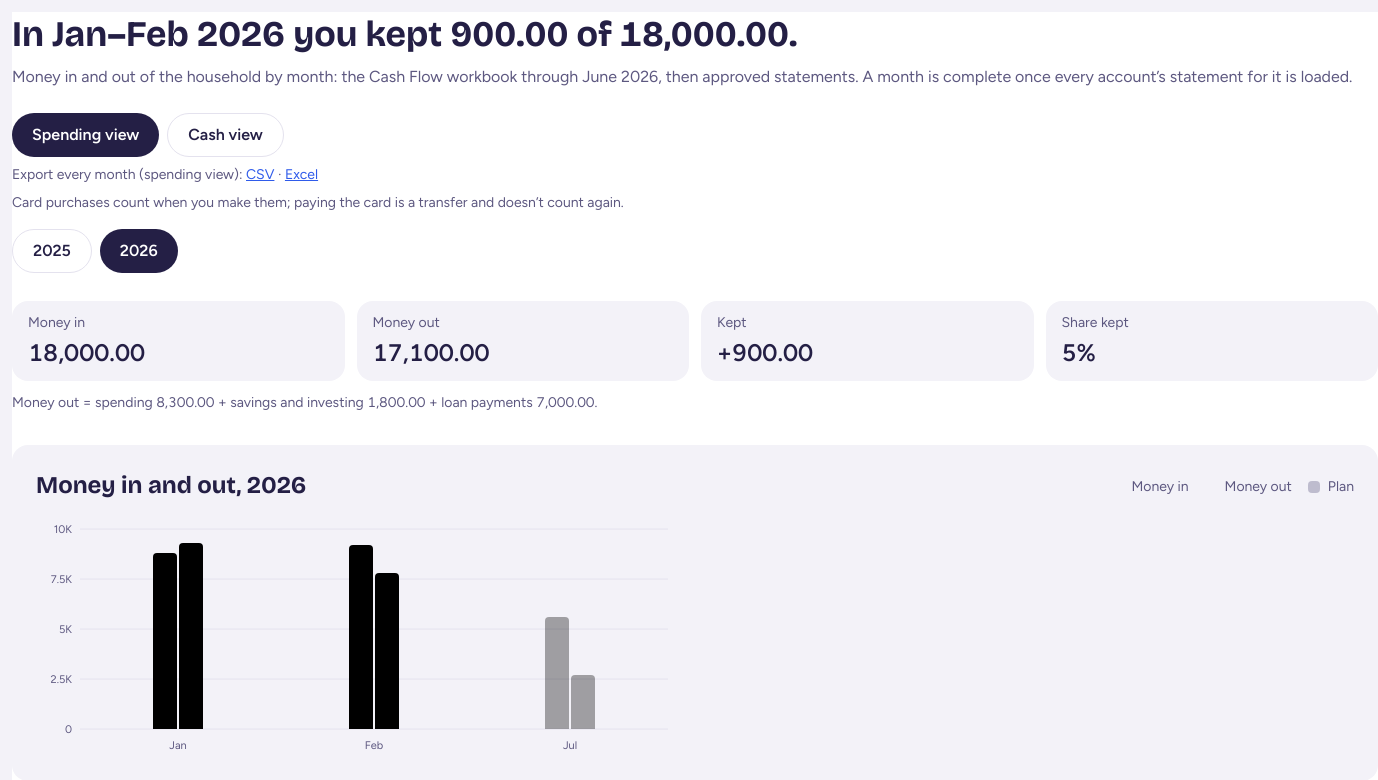
Test case: Overview › toggles between the spending view and the cash view
expect the heading "In Jan–Feb 2026 you kept 900.00 of 18,000.00." is shown: met, box [12,13,797,56]
expect the text "card payments" is not shown: met
Click the button "Cash view".
click(226, 135)  # box [167,113,284,157]
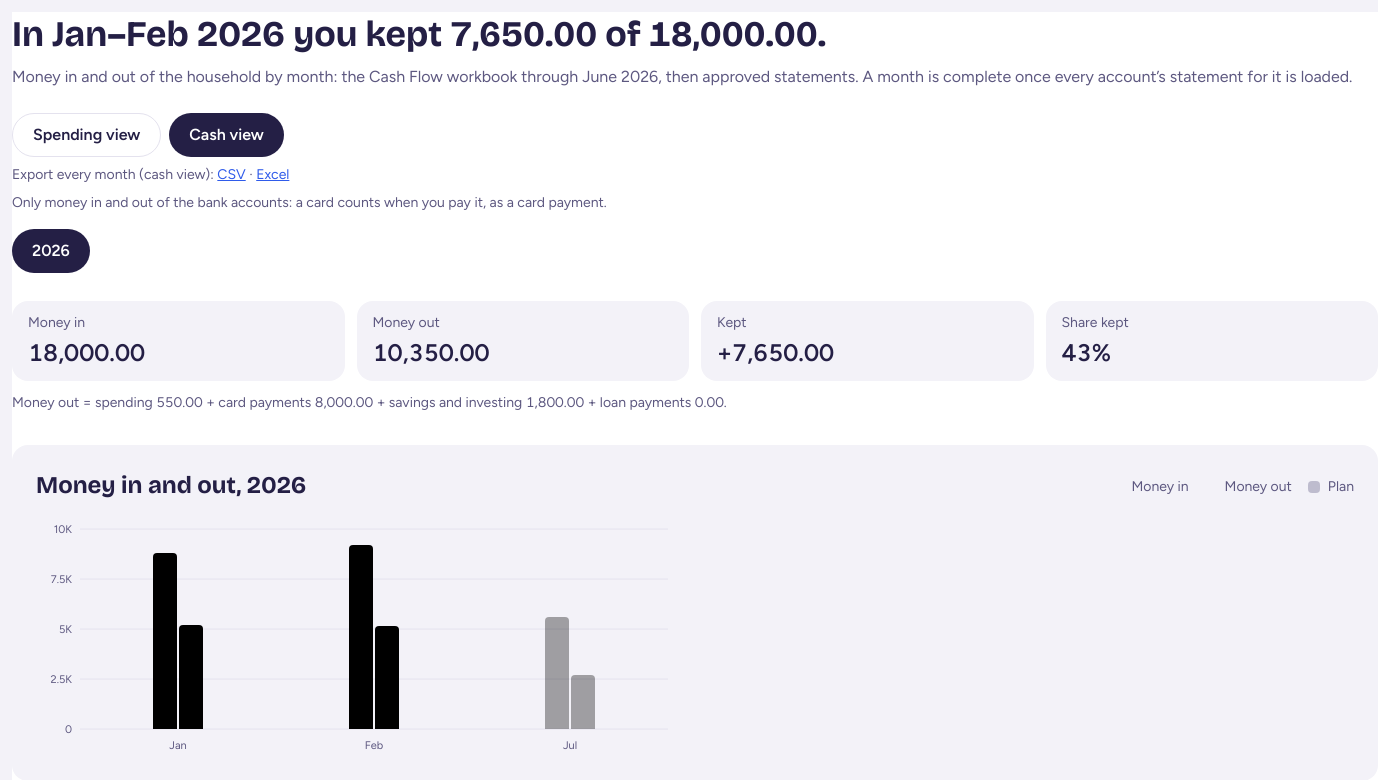
expect the text "+ card payments" shows "8,000.00": met, box [315,394,373,411]
